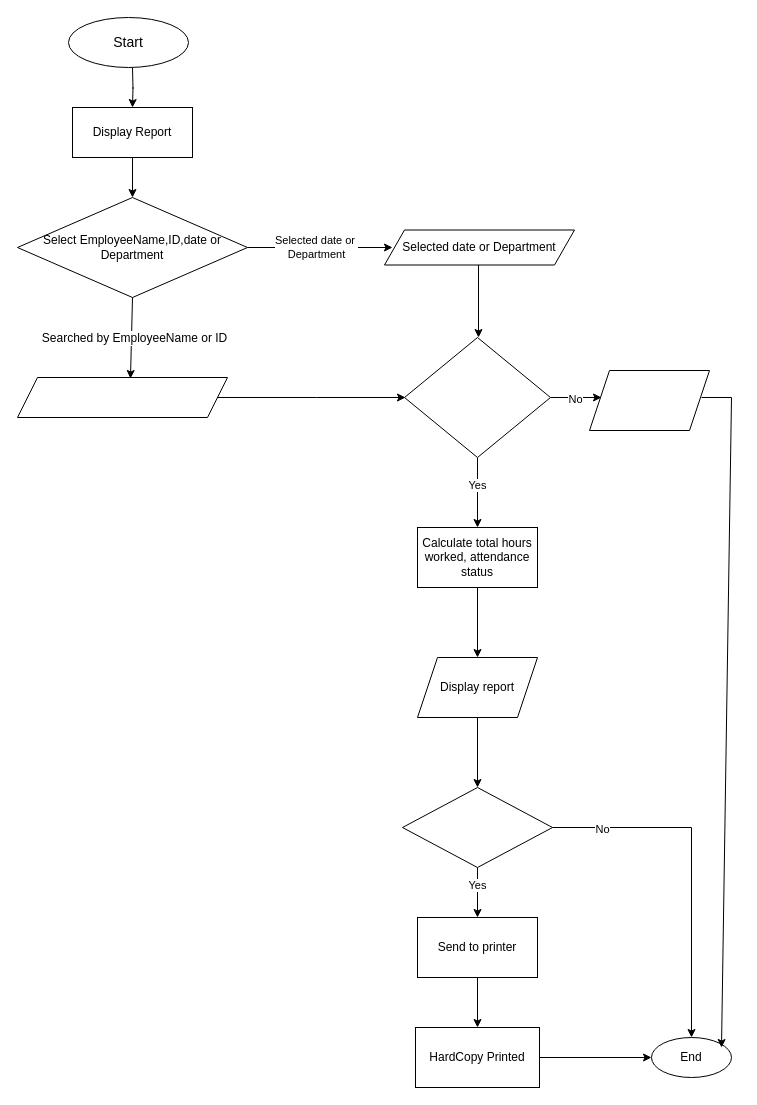
The diagram is 757 pixels wide and 1105 high, and some of its shapes have lost their labels. The shapes that lost their labels are listed below. From the top down, each one's centre as x and y in pixels, then its label:
At (x=122, y=397): "Enter EmployeeName or ID".
At (x=477, y=397): "Is Data Found?".
At (x=649, y=400): "DisplayMessage: Data is not found".
At (x=477, y=827): "Choose to print report".
